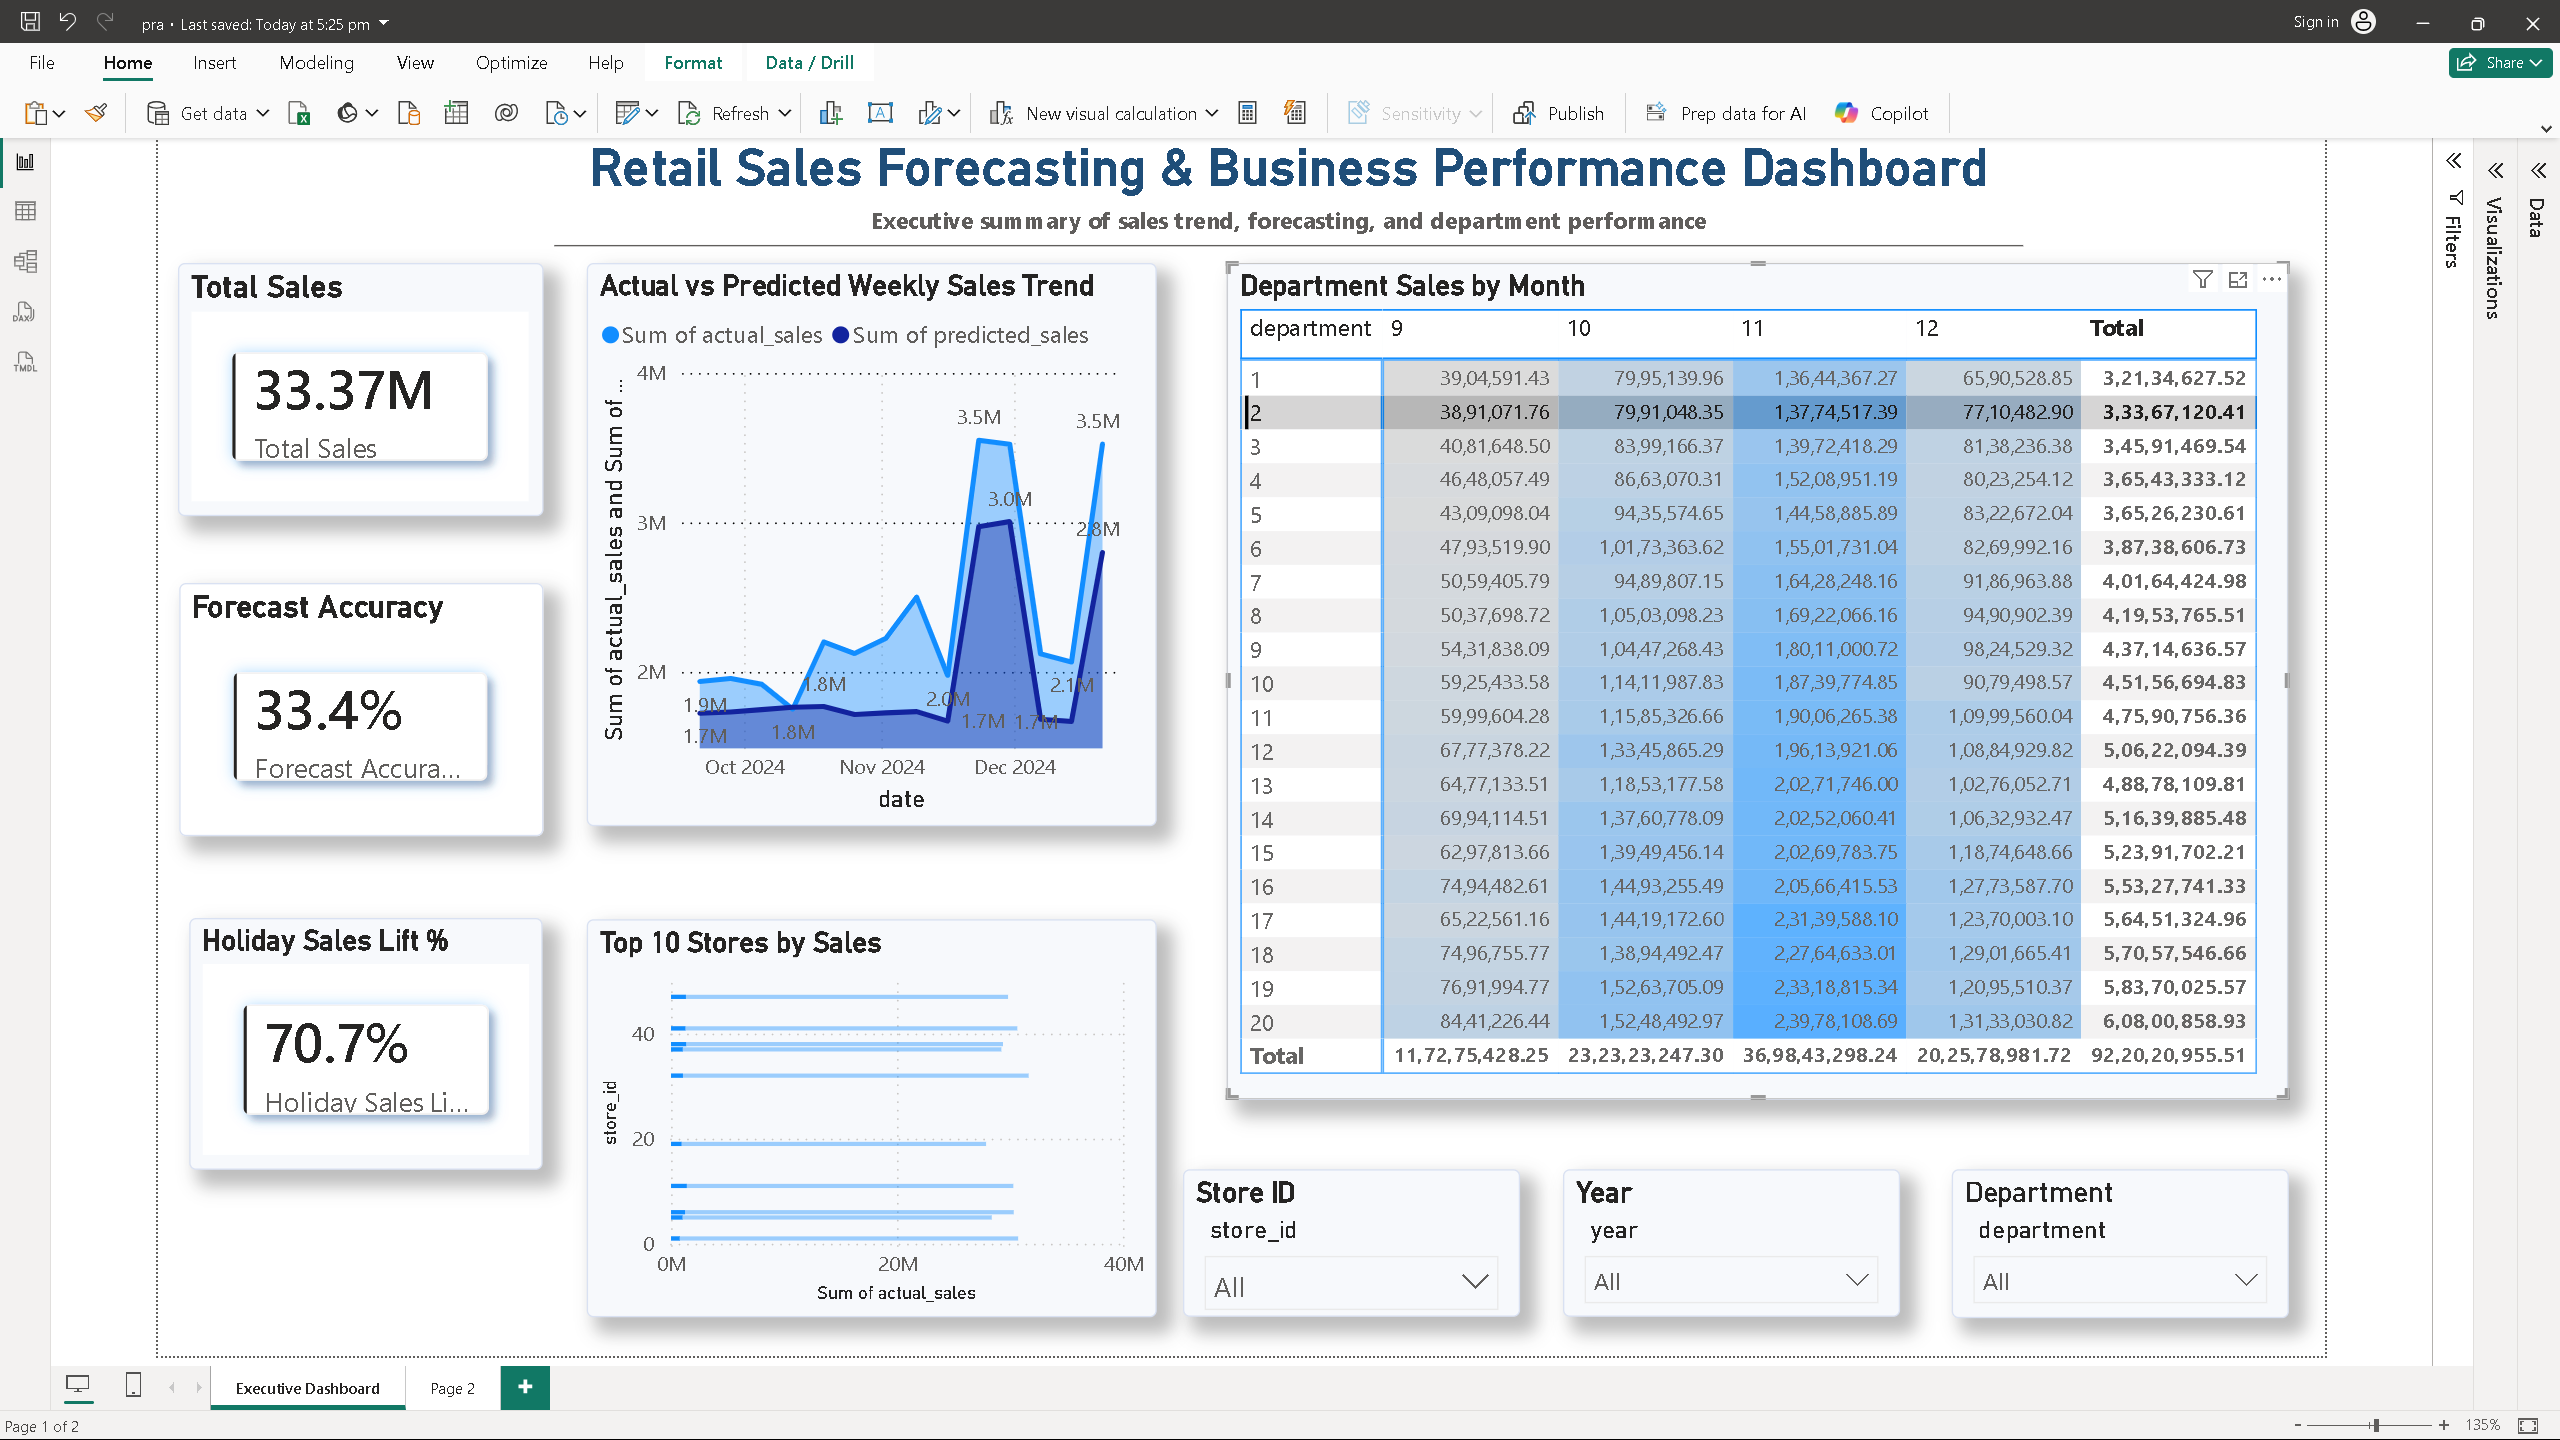

The dashboard page shown, as its layout file describes it:
{"tool":"powerbi","page":{"name":"Executive Dashboard","canvas":[1280,720],"ordinal":0},"visuals":[{"type":"cardVisual","title":"Total Sales","fields":{"Data":["retail_dashboard_predictions.Total Sales"]},"box":[11.8,73.9,215.7,149.2],"z":0},{"type":"cardVisual","title":"Holiday Sales Lift %","fields":{"Data":["retail_dashboard_predictions.Holiday Sales Lift % Fixed"]},"box":[18.5,460.9,209,148.5],"z":1000},{"type":"lineChart","title":"Actual vs Predicted Weekly Sales Trend","fields":{"Y":["Sum(retail_dashboard_predictions.actual_sales)","Sum(retail_dashboard_predictions.predicted_sales)"],"Category":["retail_dashboard_predictions.date"]},"box":[253.3,73.9,336.8,333.1],"z":2000},{"type":"clusteredBarChart","title":"Top 10 Stores by Sales","fields":{"Y":["Sum(retail_dashboard_predictions.actual_sales)"],"Category":["retail_dashboard_predictions.store_id"]},"box":[253.3,461.6,336.8,234.9],"z":3000},{"type":"pivotTable","title":"Department Sales by Month","fields":{"Rows":["retail_dashboard_predictions.department"],"Columns":["retail_dashboard_predictions.month"],"Values":["Sum(retail_dashboard_predictions.actual_sales)"]},"box":[631.5,73.9,627.1,494.1],"z":4000},{"type":"slicer","title":"Store ID","fields":{"Values":["retail_dashboard_predictions.store_id"]},"box":[606,609.5,199.3,86.8],"z":5000},{"type":"slicer","title":"Year","fields":{"Values":["retail_dashboard_predictions.year"]},"box":[830.1,609.5,199.3,86.8],"z":6000},{"type":"slicer","title":"Department","fields":{"Values":["retail_dashboard_predictions.department"]},"box":[1059.6,609.5,199.3,87.7],"z":7000},{"type":"cardVisual","title":"Forecast Accuracy","fields":{"Data":["retail_dashboard_predictions.Forecast Accuracy Fixed"]},"box":[12.6,262.9,214.9,149.2],"z":8000},{"type":"textbox","title":"Retail Sales Forecasting & Business Performance Dashboard","box":[233.9,0,868.2,64.7],"z":9000}]}

Visuals, with their boxes on the page's 1280x720 design canvas (x1, y1, x2, y2). These are canvas units, not pixel positions in the 2560x1440 screenshot, which may show the page scaled, cropped or inside an application window:
"Total Sales" cardVisual: bbox=(12, 74, 228, 223)
"Holiday Sales Lift %" cardVisual: bbox=(18, 461, 228, 609)
"Actual vs Predicted Weekly Sales Trend" lineChart: bbox=(253, 74, 590, 407)
"Top 10 Stores by Sales" clusteredBarChart: bbox=(253, 462, 590, 696)
"Department Sales by Month" pivotTable: bbox=(632, 74, 1259, 568)
"Store ID" slicer: bbox=(606, 610, 805, 696)
"Year" slicer: bbox=(830, 610, 1029, 696)
"Department" slicer: bbox=(1060, 610, 1259, 697)
"Forecast Accuracy" cardVisual: bbox=(13, 263, 228, 412)
"Retail Sales Forecasting & Business Performance Dashboard" textbox: bbox=(234, 0, 1102, 65)
